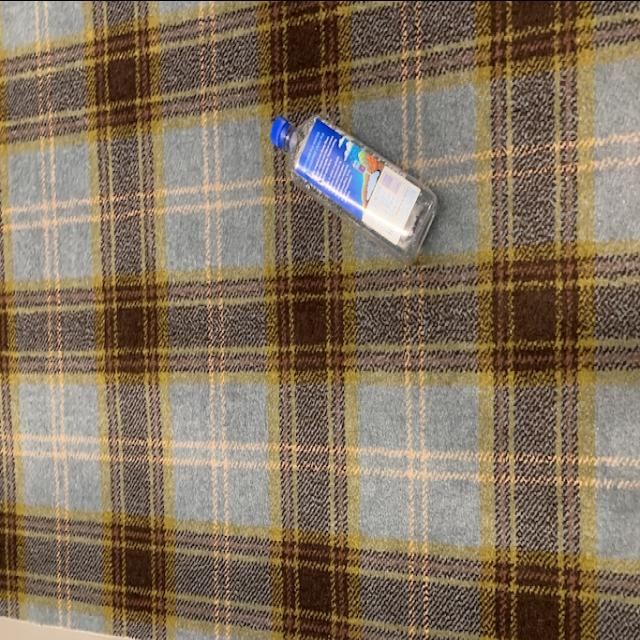litter: (270, 109, 443, 264)
